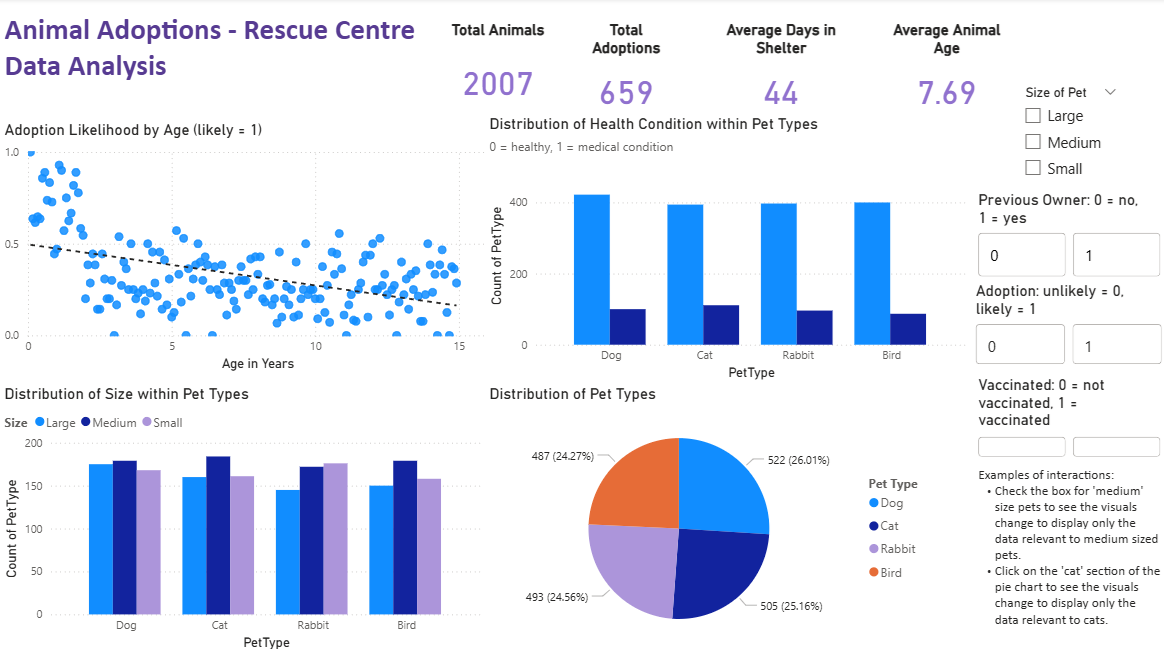

What the dashboard file says about the page in this screenshot:
{"tool":"powerbi","page":{"name":"Main Page","canvas":[1280,720],"ordinal":0},"visuals":[{"type":"pieChart","title":"Distribution of Pet Types","fields":{"Category":["data_clean.PetType"],"Y":["CountNonNull(data_clean.AdoptionLikelihood)"]},"box":[532.4,424,498.1,296.4],"z":0},{"type":"clusteredColumnChart","title":"Distribution of Size within Pet Types","fields":{"Category":["data_clean.PetType"],"Series":["data_clean.Size"],"Y":["CountNonNull(data_clean.PetType)"]},"box":[0,424,533.8,296.4],"z":1000},{"type":"slicer","fields":{"Values":["data_clean.Size"]},"box":[1112.9,90.6,124.9,120.8],"z":2000},{"type":"advancedSlicerVisual","title":"Adoption: unlikely = 0, likely = 1","fields":{"Values":["data_clean.AdoptionLikelihood"]},"box":[1066.2,311.5,214.1,96.1],"z":3000},{"type":"advancedSlicerVisual","title":"Vaccinated: 0 = not vaccinated, 1 = vaccinated","fields":{"Values":["data_clean.Vaccinated"]},"box":[1069,414.4,211.3,94.7],"z":4000},{"type":"textbox","box":[1069,509.1,211.3,194.9],"z":5000},{"type":"advancedSlicerVisual","title":"Previous Owner: 0 = no, 1 = yes","fields":{"Values":["data_clean.PreviousOwner"]},"box":[1069,211.3,211.3,100.2],"z":6000},{"type":"card","title":"Average Days in Shelter","fields":{"Values":["Avg(data_clean.TimeInShelterDays)"]},"box":[758.8,22,197.6,112.5],"z":7000},{"type":"card","title":"Total Animals","fields":{"Values":["CountNonNull(data_clean.PetType)"]},"box":[477.5,22,138.6,112.5],"z":8000},{"type":"card","title":"Total Adoptions","fields":{"Values":["Sum(data_clean.AdoptionLikelihood)"]},"box":[616.1,22,142.7,112.5],"z":9000},{"type":"card","title":"Average Animal Age","fields":{"Values":["Avg(data_clean.AgeInYears)"]},"box":[956.4,22,166,112.5],"z":10000},{"type":"textbox","box":[0,9.6,477.5,111.1],"z":11000},{"type":"scatterChart","title":"Adoption Likelihood by Age (likely = 1)","fields":{"Y":["Avg(data_clean.AdoptionLikelihood)"],"X":["data_clean.AgeInYears"]},"box":[0,134.5,547.5,279.9],"z":12000},{"type":"clusteredColumnChart","title":"Distribution of Health Condition within Pet Types","fields":{"Category":["data_clean.PetType"],"Y":["CountNonNull(data_clean.PetType)"],"Series":["data_clean.HealthCondition"]},"box":[532.4,127.6,533.8,296.4],"z":13000}]}

Visuals, with their boxes in screenshot pixels (x1, y1, x2, y2), scaled from the page's 1280x720 canvas onto the 1164x649 screenshot:
"Distribution of Pet Types" pieChart: [x1=484, y1=382, x2=937, y2=648]
"Distribution of Size within Pet Types" clusteredColumnChart: [x1=0, y1=382, x2=485, y2=648]
slicer - data_clean.Size: [x1=1012, y1=82, x2=1126, y2=191]
"Adoption: unlikely = 0, likely = 1" advancedSlicerVisual: [x1=970, y1=281, x2=1163, y2=367]
"Vaccinated: 0 = not vaccinated, 1 = vaccinated" advancedSlicerVisual: [x1=972, y1=374, x2=1163, y2=459]
textbox: [x1=972, y1=459, x2=1163, y2=635]
"Previous Owner: 0 = no, 1 = yes" advancedSlicerVisual: [x1=972, y1=190, x2=1163, y2=281]
"Average Days in Shelter" card: [x1=690, y1=20, x2=870, y2=121]
"Total Animals" card: [x1=434, y1=20, x2=560, y2=121]
"Total Adoptions" card: [x1=560, y1=20, x2=690, y2=121]
"Average Animal Age" card: [x1=870, y1=20, x2=1021, y2=121]
textbox: [x1=0, y1=9, x2=434, y2=109]
"Adoption Likelihood by Age (likely = 1)" scatterChart: [x1=0, y1=121, x2=498, y2=374]
"Distribution of Health Condition within Pet Types" clusteredColumnChart: [x1=484, y1=115, x2=970, y2=382]
